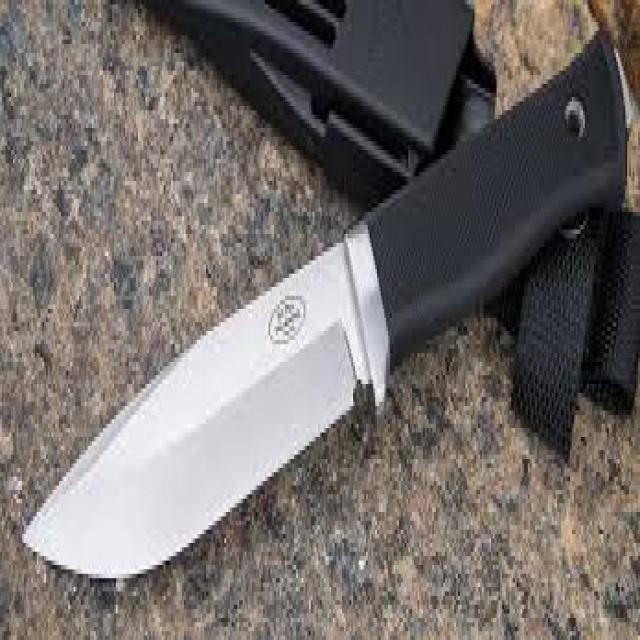knives: (8, 169, 443, 617)
